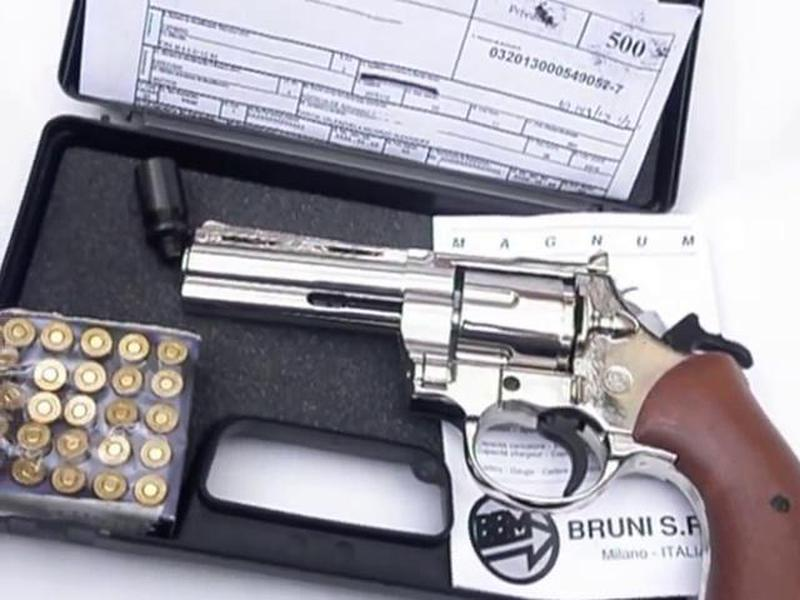Revolver: (177, 204, 798, 522)
